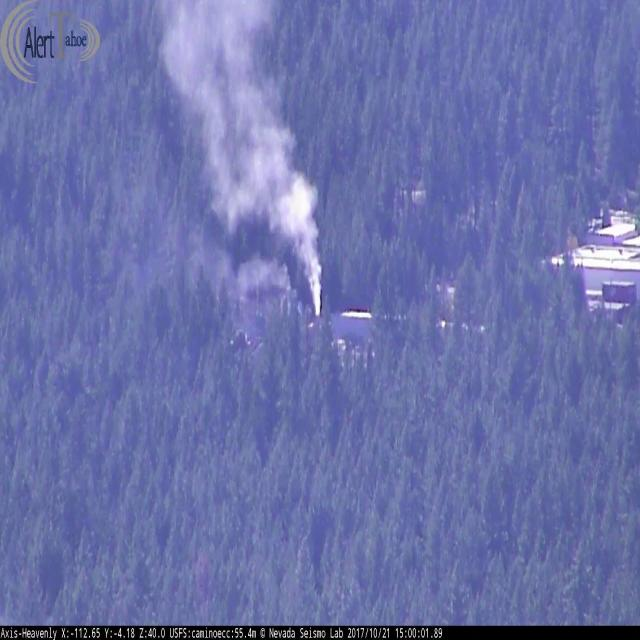smoke: (143, 0, 332, 318)
